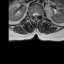CCS_normal: (34, 11, 36, 20)
LFS_normal: (39, 11, 41, 18)
LLS_normal: (36, 11, 39, 18)
RFS_normal: (30, 11, 32, 18)
RLS_normal: (32, 10, 34, 18)
